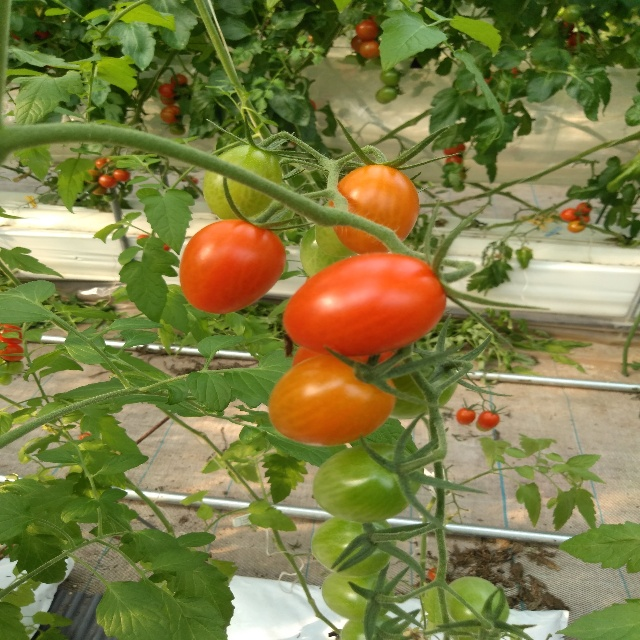l_fully_ripened: (282, 253, 446, 358), (178, 217, 287, 316)
l_green: (311, 443, 424, 523), (203, 146, 283, 219), (309, 515, 397, 577), (388, 353, 460, 420), (444, 576, 508, 635), (322, 571, 393, 621), (300, 225, 356, 278), (340, 614, 402, 640), (315, 223, 356, 257)
l_half_ripened: (268, 356, 397, 447), (328, 164, 420, 255)
